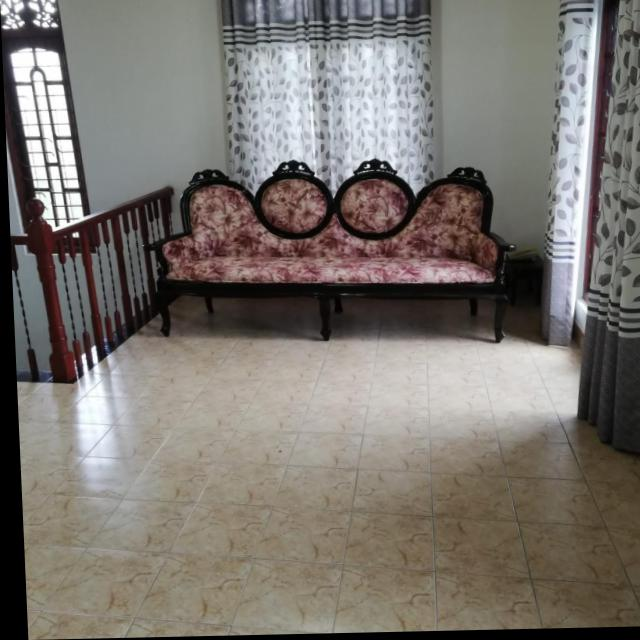Sofa: (138, 154, 516, 349)
